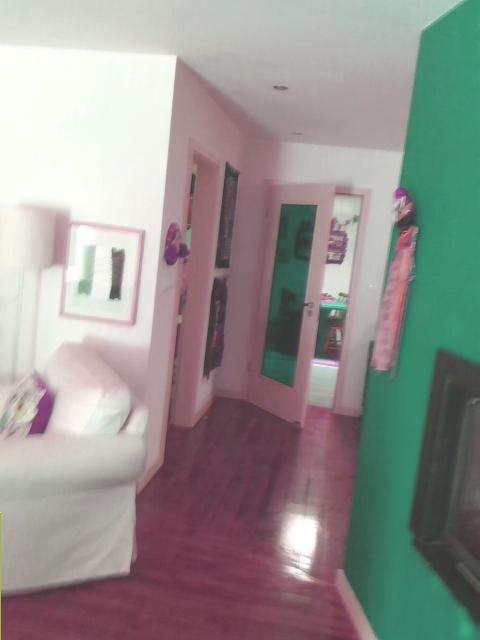semi_door: (240, 177, 374, 428)
